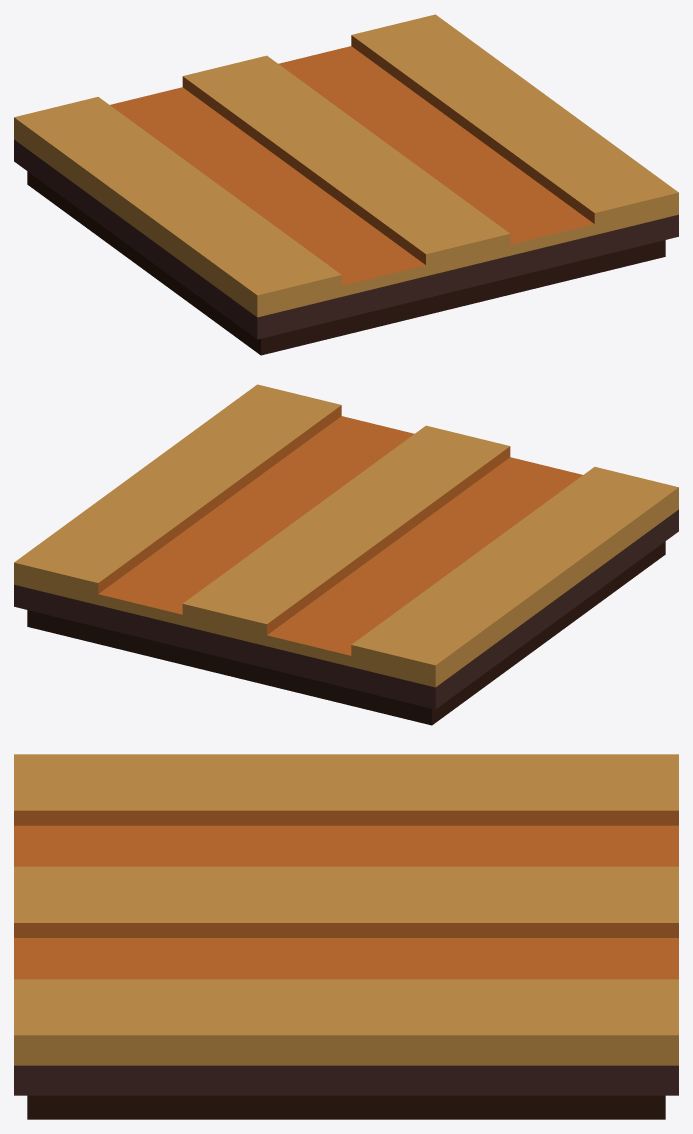
The model's file is Tile_Dirt_Road_Straight.fbx.
3 renders of one model, top to bottom at view 1: azimuth 30°, elevation 25°; view 2: azimuth 150°, elevation 25°; view 3: azimuth 270°, elevation 25°, orthographic. The views are drawn at different scales.
Parts seen in each view (by area): view 1: Tile_Dirt_Road_Straight; view 2: Tile_Dirt_Road_Straight; view 3: Tile_Dirt_Road_Straight.
Part boxes in pixels (box(x1,y1,x2,y2)): Tile_Dirt_Road_Straight: box(14, 14, 678, 355); Tile_Dirt_Road_Straight: box(14, 384, 678, 725); Tile_Dirt_Road_Straight: box(14, 754, 678, 1119).
Bounding box in the file's own units: 100 × 14.9 × 100.
